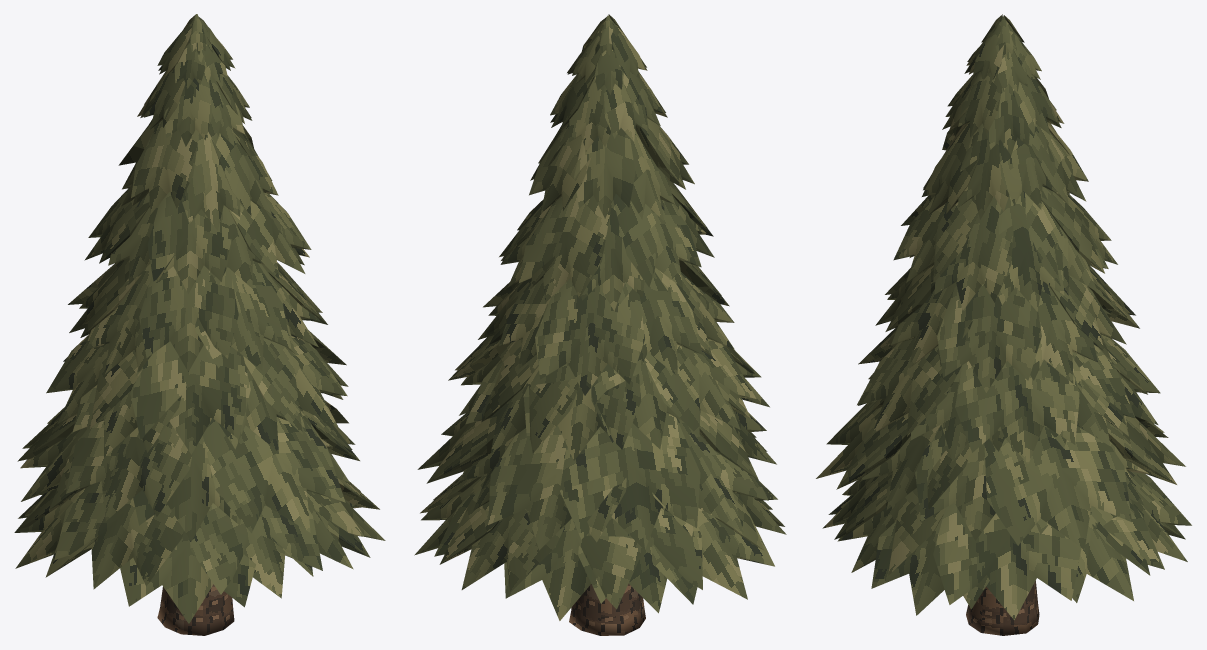
Rendered from conifer_c1.glb.
3 renders of one model, left to right at view 1: azimuth 30°, elevation 25°; view 2: azimuth 150°, elevation 25°; view 3: azimuth 270°, elevation 25°, orthographic.
Parts seen in each view (by area): view 1: C1_Crown, Trunk; view 2: C1_Crown, Trunk; view 3: C1_Crown, Trunk.
Boxes of the visible parts, x1,y1,x2,y2 form: C1_Crown: (14, 14, 385, 623); Trunk: (157, 584, 234, 635); C1_Crown: (414, 14, 786, 620); Trunk: (569, 583, 645, 635); C1_Crown: (816, 14, 1191, 620); Trunk: (966, 580, 1039, 635).
Bounding box in the file's own units: 5.72 × 10 × 5.64.
1 material, 1 textured.
